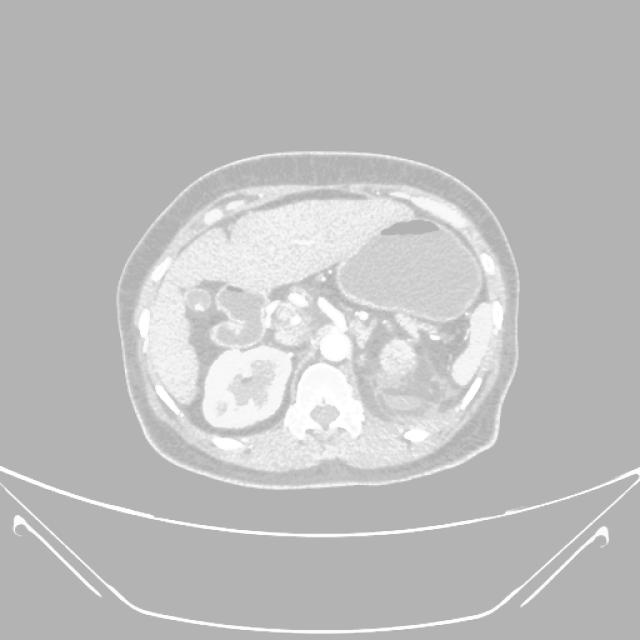TUMOR: (102, 209, 513, 355)
